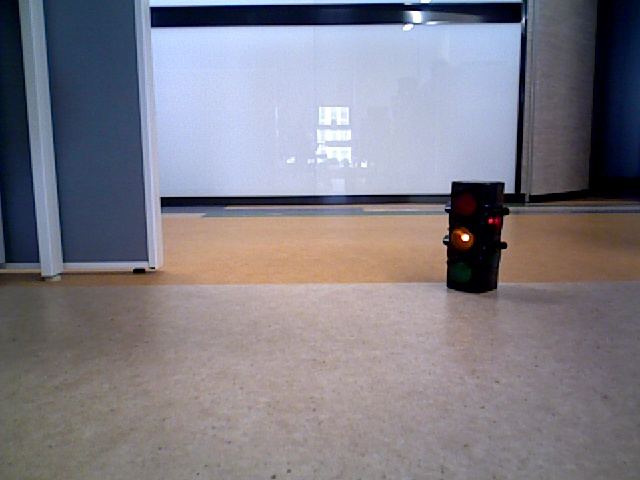yellow: (451, 184, 497, 288)
